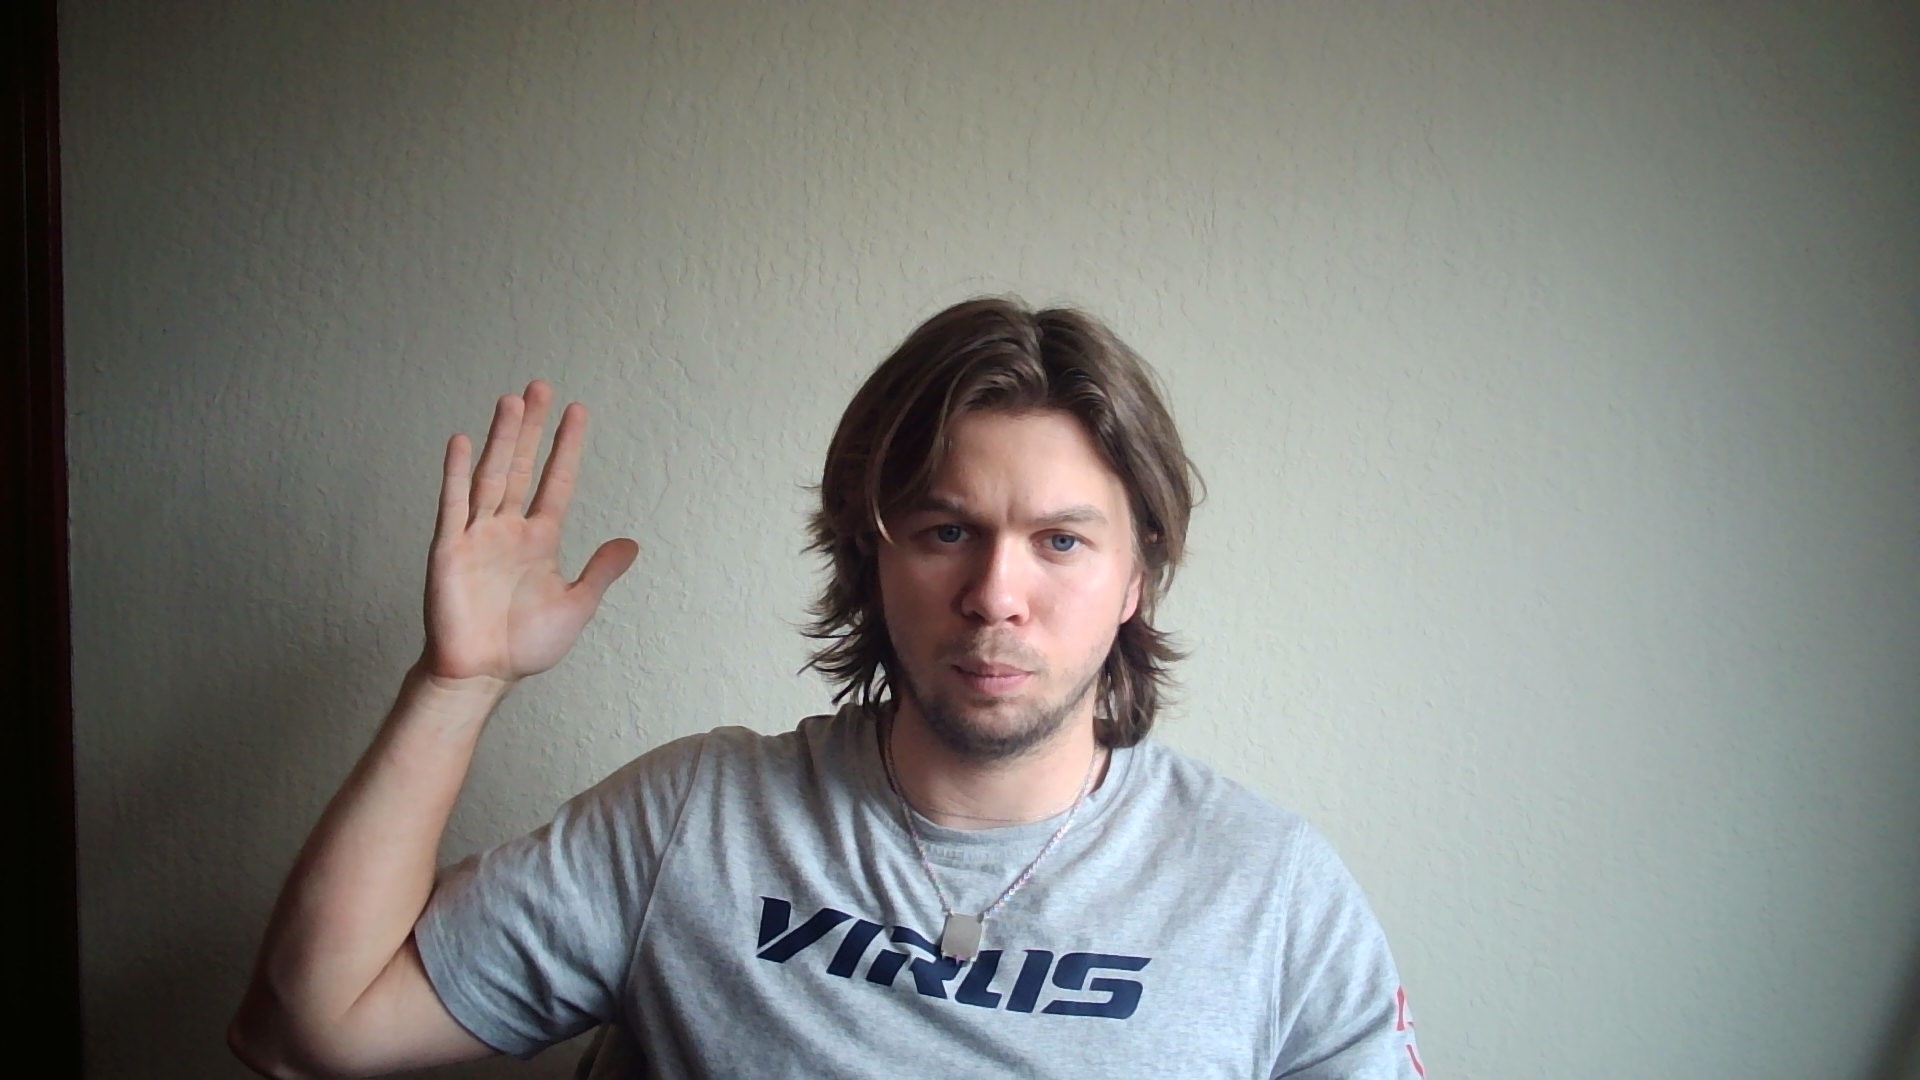hello: (423, 380, 640, 682)
